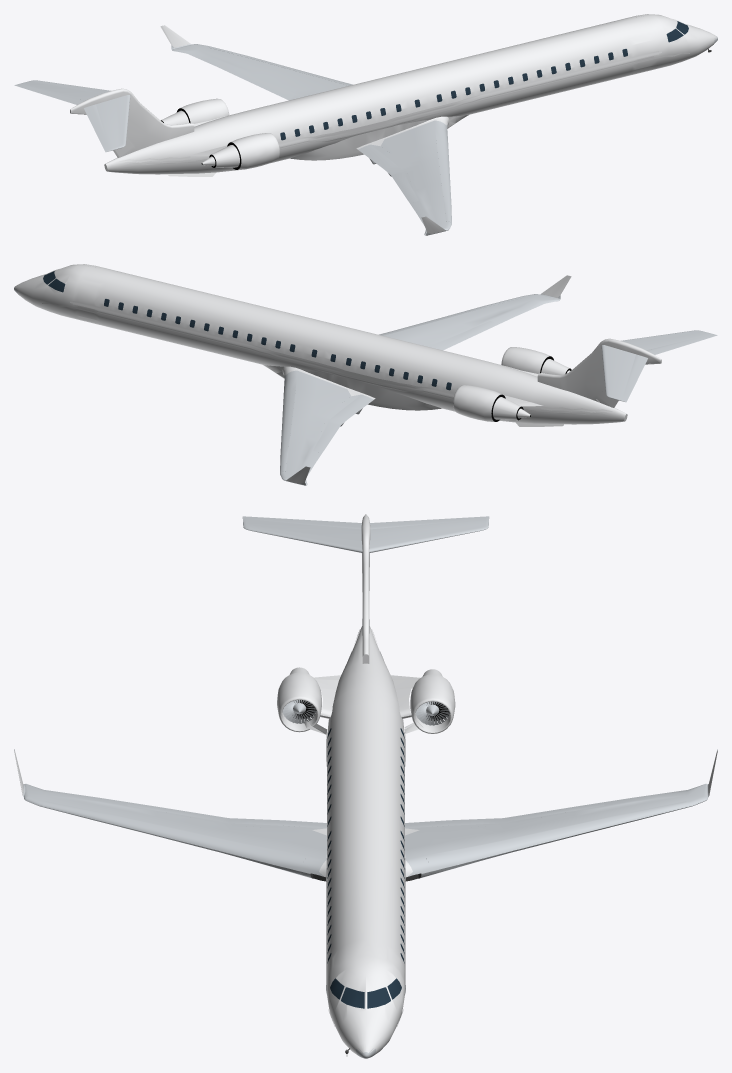
Rendered from crj9-0.glb.
The picture shows the model from 3 angles, top to bottom: view 1: azimuth 30°, elevation 25°; view 2: azimuth 150°, elevation 25°; view 3: azimuth 270°, elevation 25°; orthographic projection. The views are drawn at different scales.
Visible parts, largest first — view 1: hull, wing, tail, engine, band-cheatline, glass, band-belly-trim, band-cheatline-trim, band-tailcone-trim; view 2: hull, wing, tail, engine, band-cheatline, glass, band-belly-trim, band-cheatline-trim, band-tailcone-trim; view 3: wing, hull, engine, tail, glass.
Part boxes in pixels (left/top/right/bottom): hull: left=104, top=14, right=716, bottom=176; wing: left=14, top=25, right=717, bottom=235; tail: left=70, top=25, right=445, bottom=233; engine: left=161, top=98, right=279, bottom=169; band-cheatline: left=119, top=51, right=658, bottom=162; glass: left=280, top=21, right=688, bottom=140; band-belly-trim: left=127, top=52, right=689, bottom=164; band-cheatline-trim: left=124, top=56, right=653, bottom=163; band-tailcone-trim: left=279, top=51, right=661, bottom=145; hull: left=15, top=264, right=627, bottom=426; wing: left=14, top=275, right=717, bottom=485; tail: left=286, top=275, right=661, bottom=483; engine: left=453, top=347, right=570, bottom=421; band-cheatline: left=73, top=301, right=612, bottom=412; glass: left=43, top=271, right=451, bottom=390; band-belly-trim: left=42, top=302, right=604, bottom=414; band-cheatline-trim: left=78, top=306, right=607, bottom=413; band-tailcone-trim: left=70, top=301, right=453, bottom=395; wing: left=14, top=516, right=717, bottom=1058; hull: left=312, top=626, right=419, bottom=1056; engine: left=277, top=667, right=455, bottom=733; tail: left=14, top=514, right=717, bottom=795; glass: left=327, top=728, right=404, bottom=1008.
Size of the model in its own units: 36.2 by 6.06 by 24.9.
